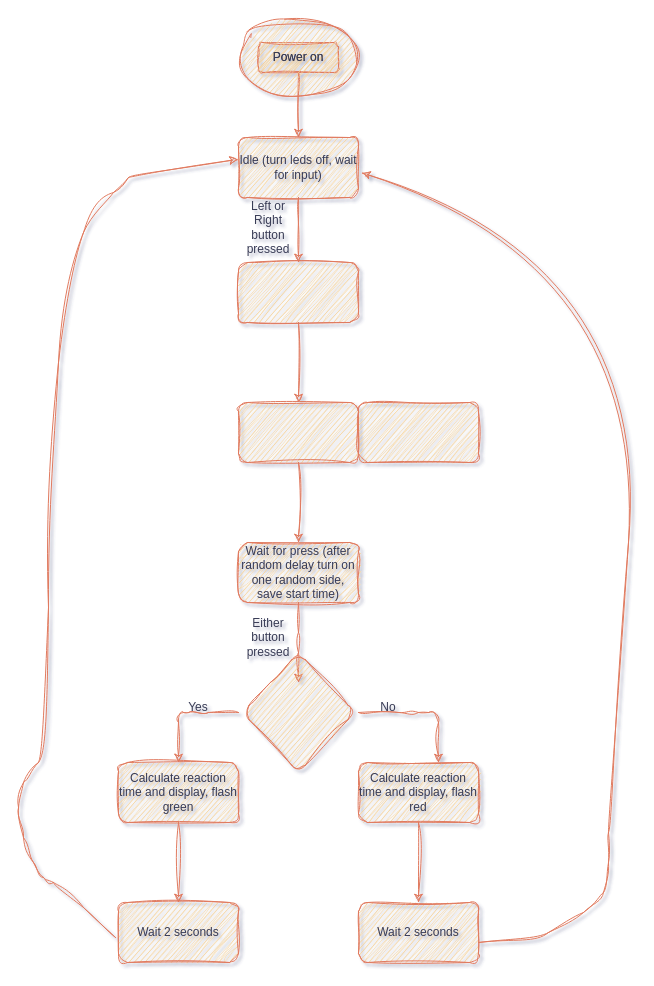
The diagram is 654 pixels wide and 986 high, and some of its shapes have lost their labels. Each missing label, with the centre of its shape:
"Random delay (2-4 seconds so user doesn't memorize time to wait for press" goes at [418,432].
"Show result (is it the right button)" goes at [298,712].
"Start Animation (flash blue)" goes at [298,292].
"Wait random delay (generate random delay, go to waiting for press" goes at [298,432].
